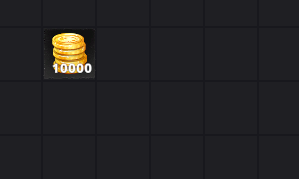gold: (44, 28, 96, 79)
